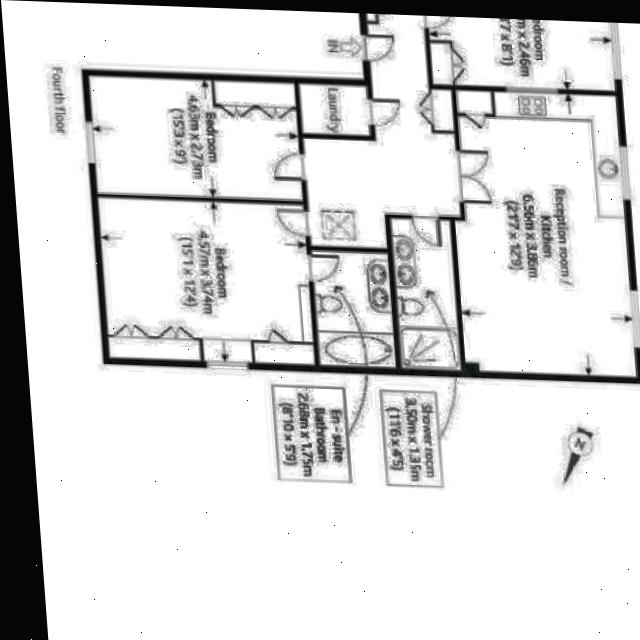room: (444, 79, 637, 390), (294, 8, 462, 254), (92, 198, 320, 365), (84, 76, 306, 200), (424, 16, 617, 91), (391, 215, 460, 375), (311, 245, 394, 374), (297, 84, 371, 136)
